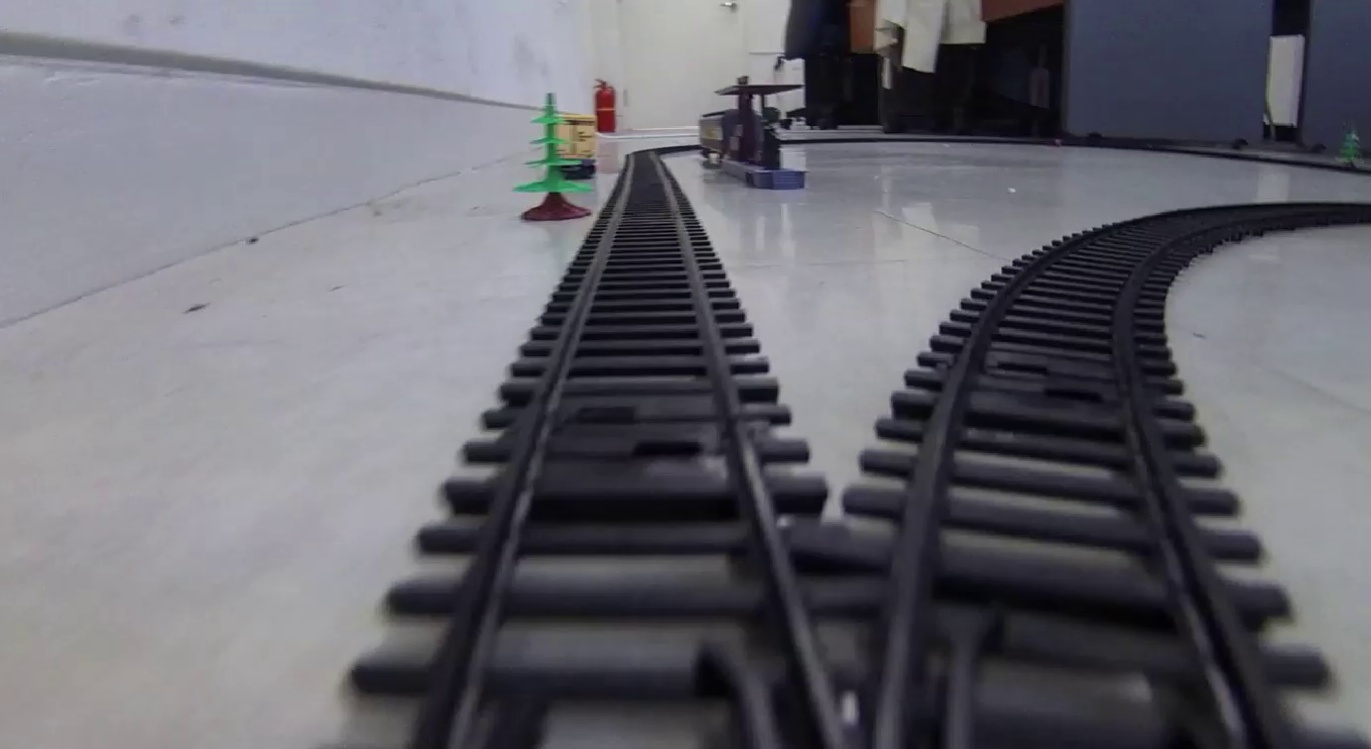tree: (507, 90, 598, 225)
